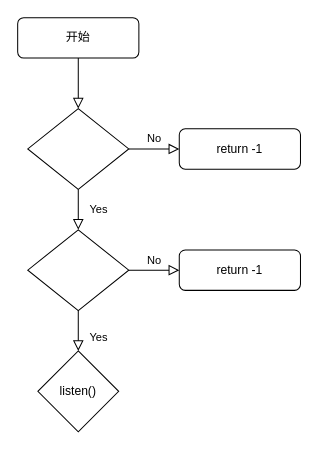
Some shapes in this 318 by 449 pixel diagram are drawn without their labels. The centre of each missing label's shape, as x and y in pixels:
"bind()" goes at point 78,270.
"socket()" goes at point 78,148.
